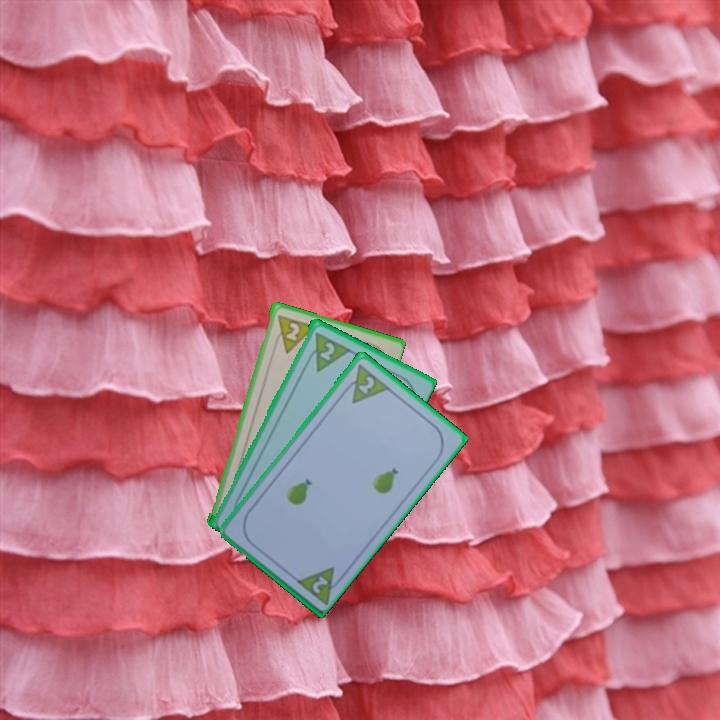2p: (271, 311, 316, 356), (354, 372, 378, 397), (308, 572, 331, 596), (316, 338, 338, 363)
